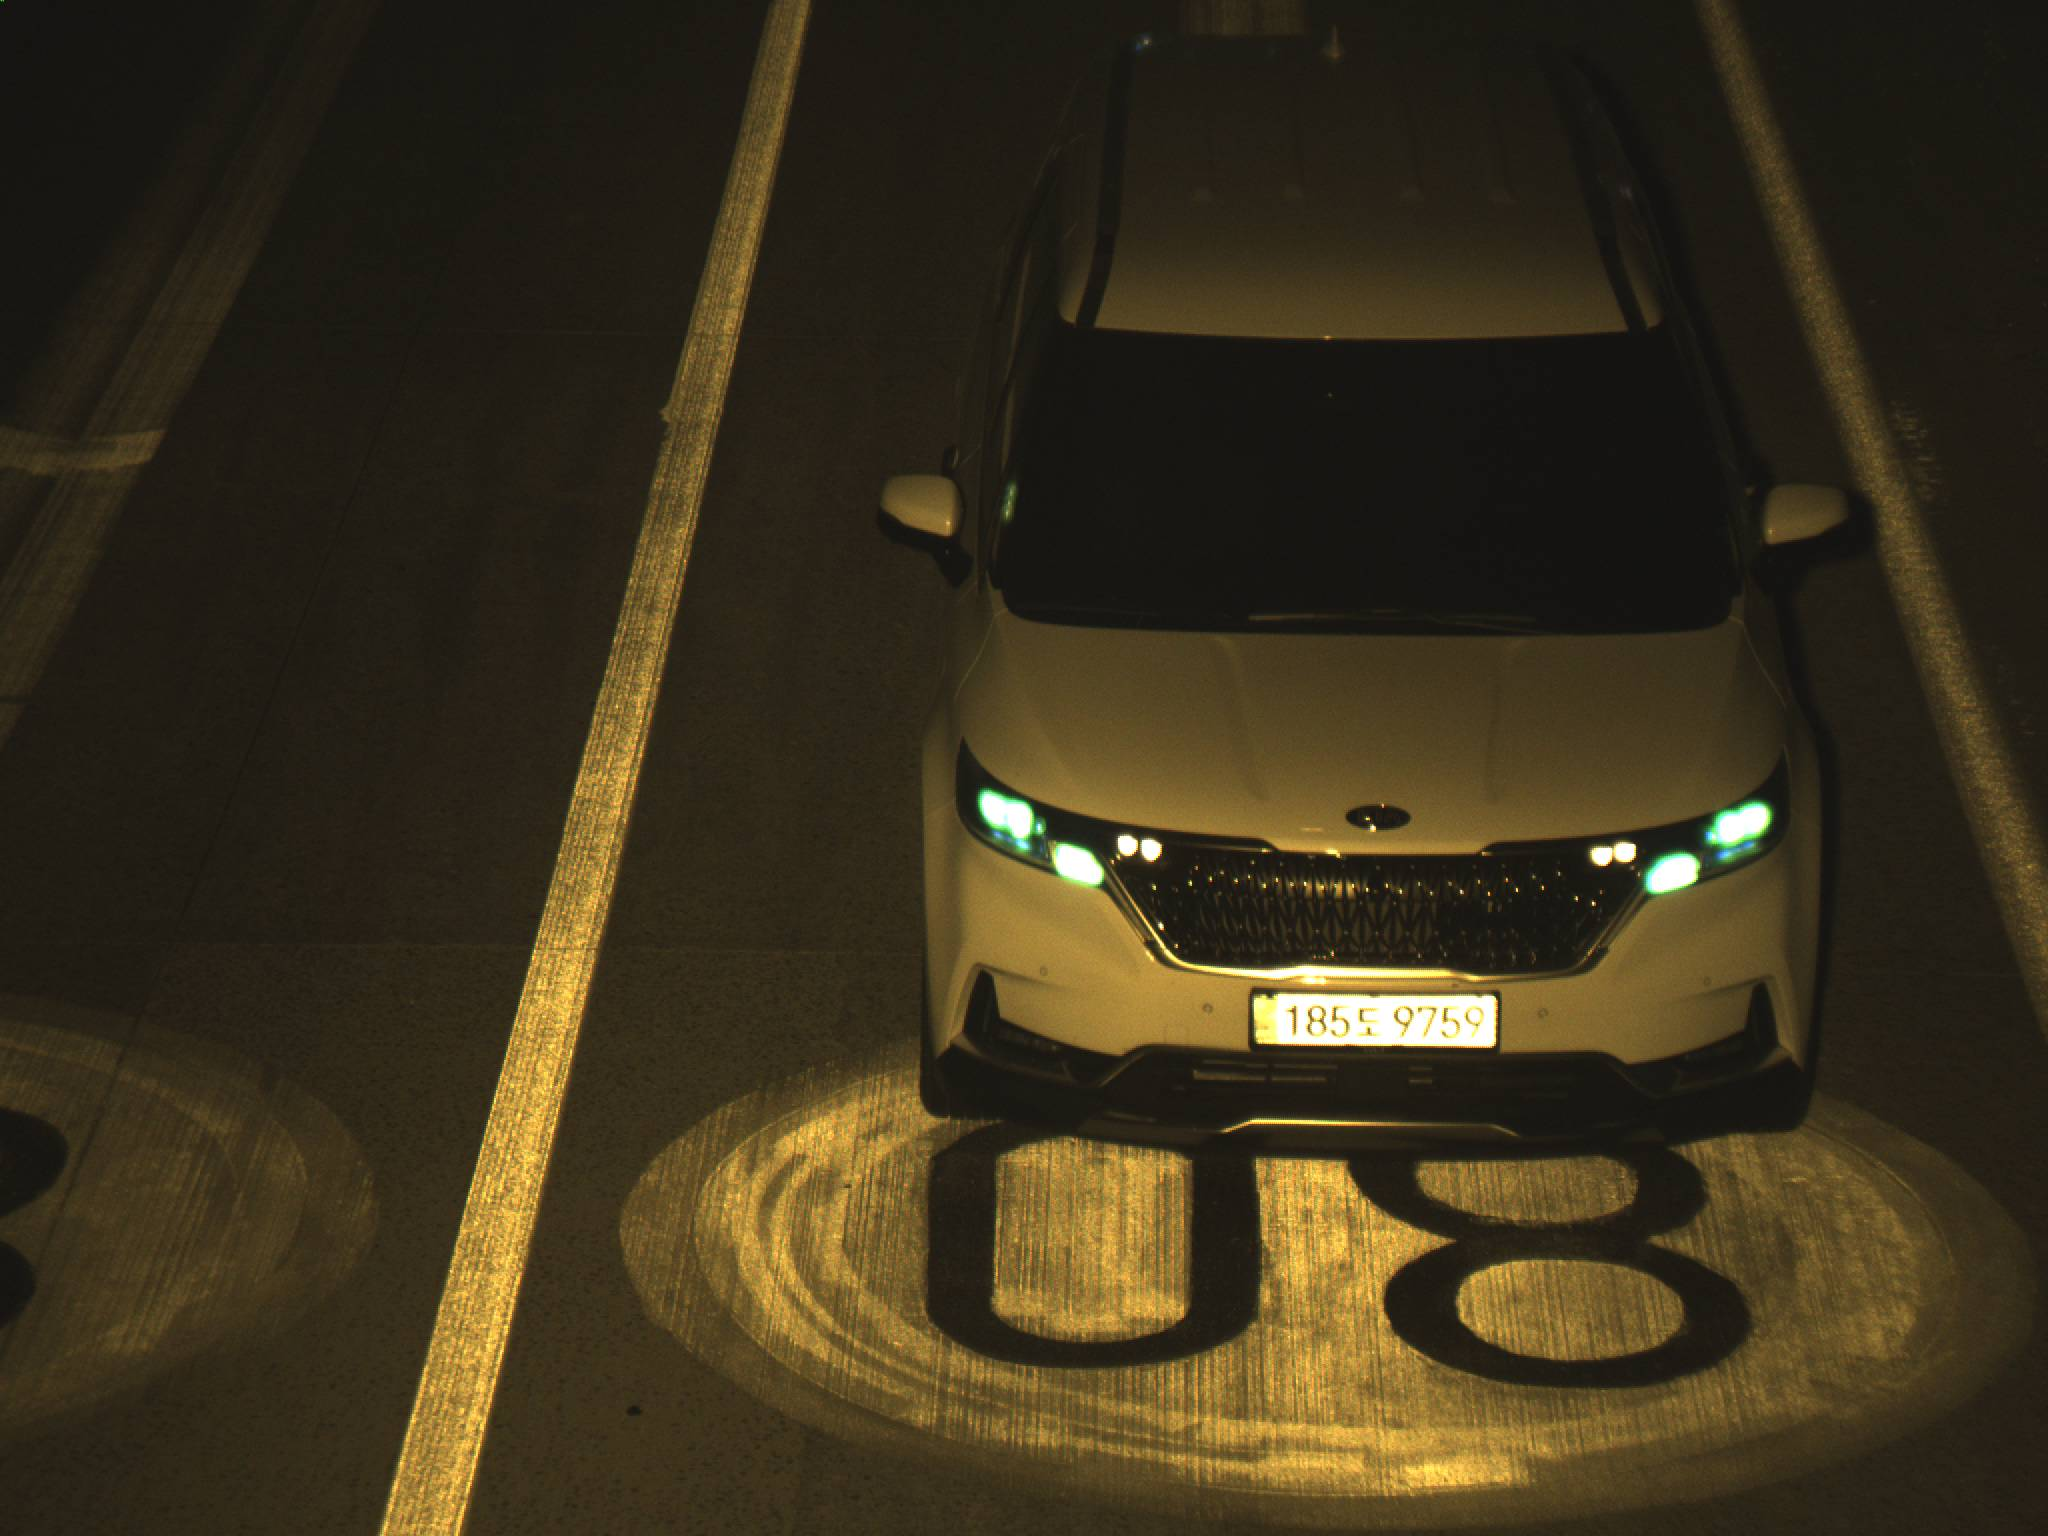car: (870, 32, 1891, 1165)
plate: (1245, 980, 1502, 1054)
